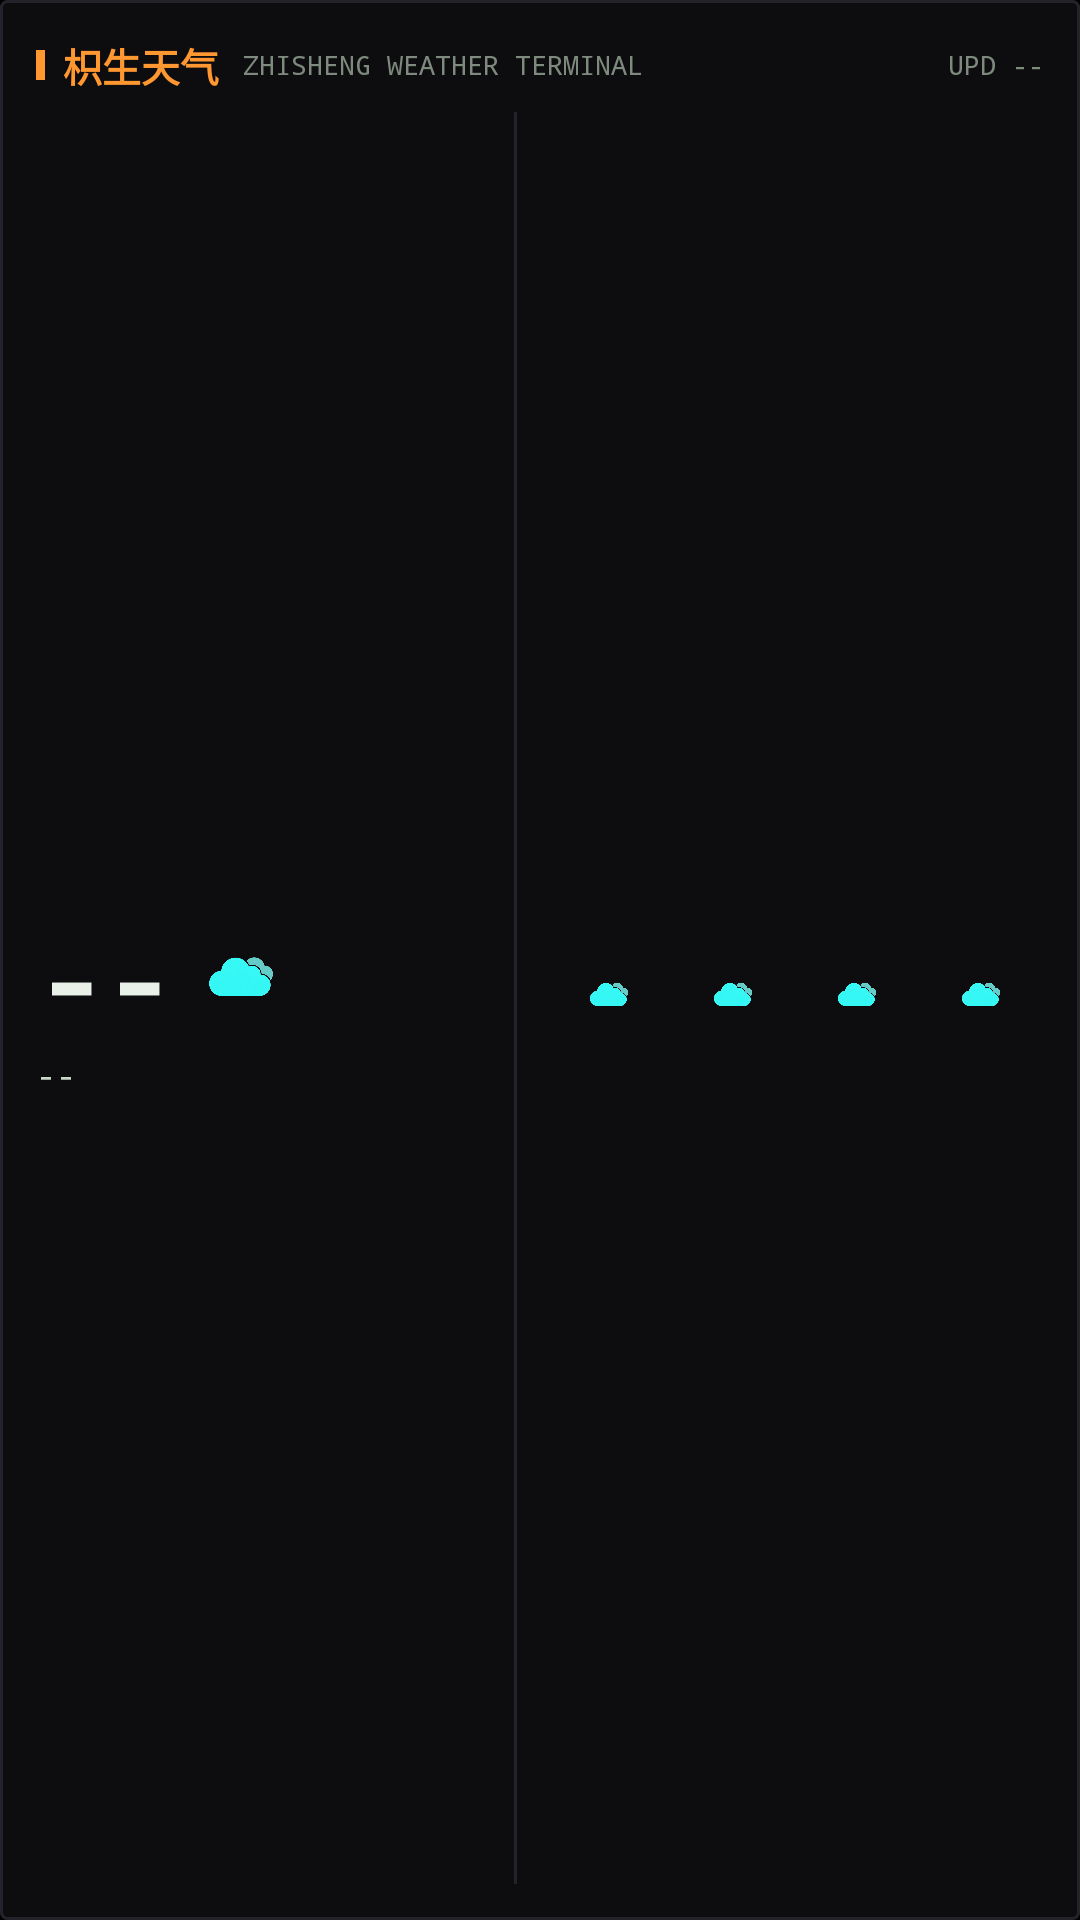

Locate icon controls on the screen. Image size 1080x1920, boxes as bbox(x1, y1, x2, y2).
天气图标: bbox(209, 957, 273, 996), bbox(590, 983, 628, 1006), bbox(714, 983, 752, 1006), bbox(838, 983, 876, 1006), bbox(962, 983, 1000, 1006)
